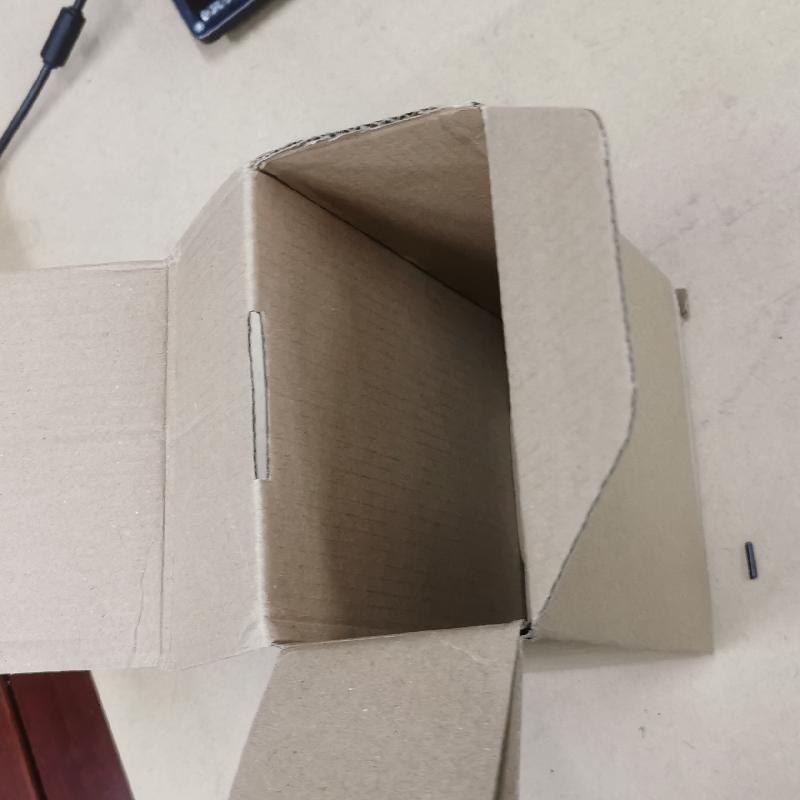boxes: (4, 93, 717, 800)
